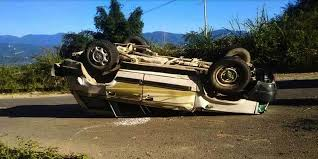accident: (28, 37, 279, 140)
